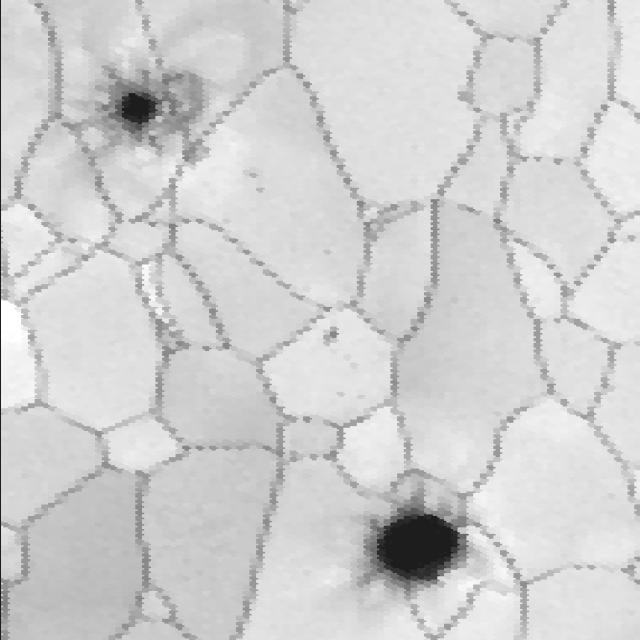good_void: (337, 471, 477, 603), (61, 67, 228, 175), (318, 324, 343, 347), (276, 0, 309, 16), (340, 354, 359, 371), (619, 231, 639, 245), (240, 168, 259, 179), (330, 389, 345, 400), (317, 247, 334, 256), (251, 186, 265, 195), (352, 394, 366, 400)
